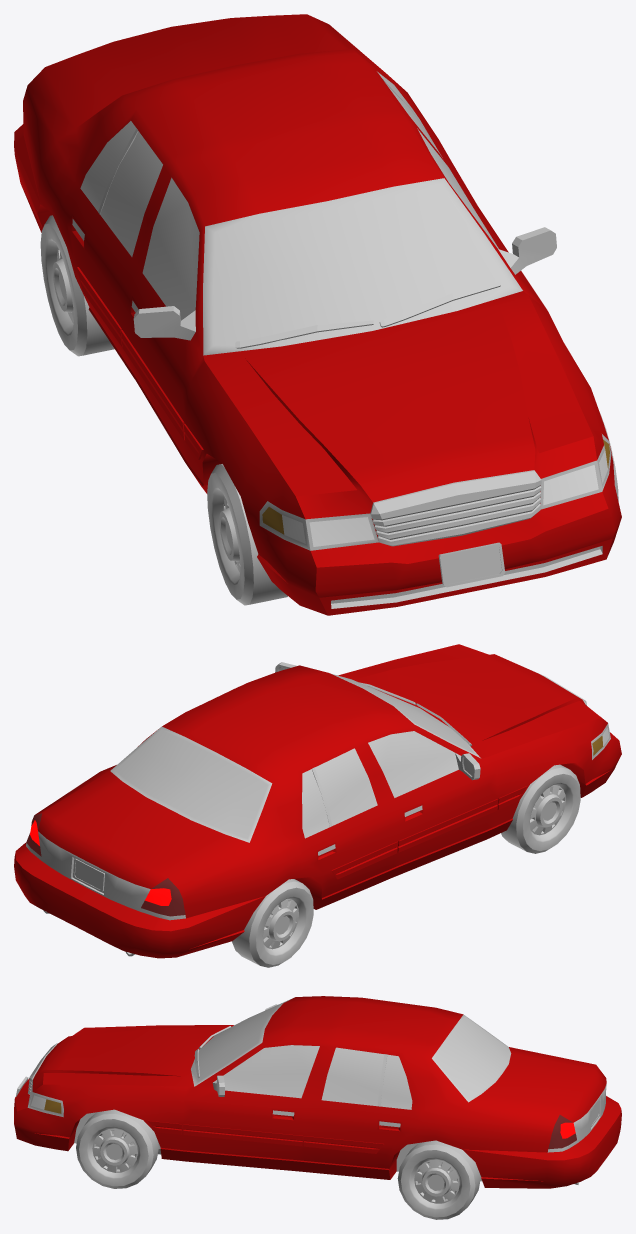
The model's file is taxi car.fbx.
3 renders of one model, top to bottom at view 1: azimuth 30°, elevation 25°; view 2: azimuth 150°, elevation 25°; view 3: azimuth 270°, elevation 25°, orthographic. The views are drawn at different scales.
Parts seen in each view (by area): view 1: Car_S, CS_WheelFR, CS_Wheels_B; view 2: Car_S, CS_Wheels_B, CS_WheelFR; view 3: Car_S, CS_WheelFL, CS_Wheels_B.
Boxes of the visible parts, box(x1,y1,x2,y2) form: Car_S: box(14, 14, 621, 615); CS_WheelFR: box(207, 464, 287, 605); CS_Wheels_B: box(40, 215, 114, 356); Car_S: box(14, 644, 621, 958); CS_Wheels_B: box(232, 879, 313, 967); CS_WheelFR: box(501, 764, 580, 853); Car_S: box(14, 996, 621, 1188); CS_WheelFL: box(76, 1109, 158, 1188); CS_Wheels_B: box(397, 1140, 480, 1219).
Bounding box in the file's own units: 4587 × 2680 × 8876.
